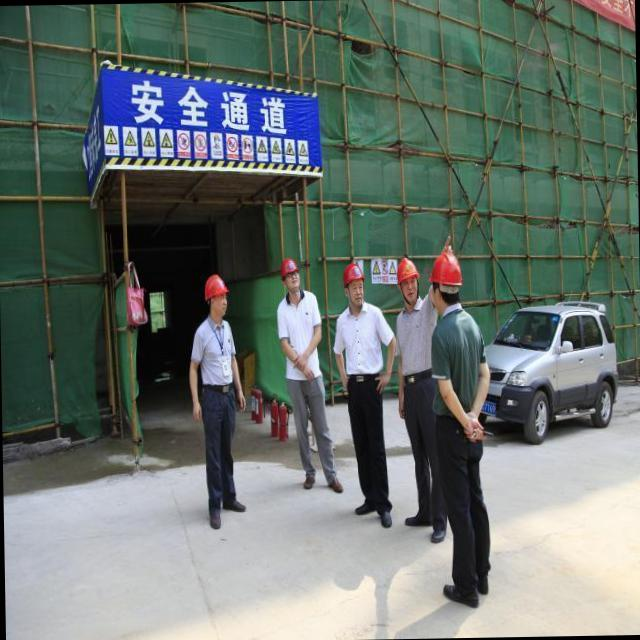hard_hat: (428, 250, 462, 284), (203, 274, 229, 303), (396, 256, 420, 286), (343, 262, 364, 288), (279, 258, 300, 280)
vehicle: (422, 237, 509, 620), (162, 263, 270, 543), (261, 252, 346, 503), (383, 255, 451, 546), (332, 254, 400, 530)
work_boots: (442, 583, 479, 609), (221, 498, 246, 512), (404, 514, 432, 526), (354, 500, 376, 515), (327, 476, 344, 495), (208, 507, 222, 530), (431, 526, 446, 543), (380, 509, 392, 528), (302, 476, 316, 490)
